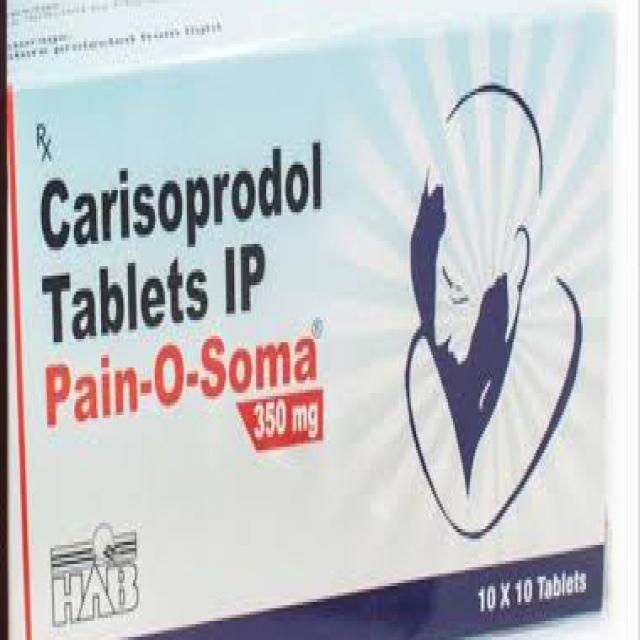drug-name: (40, 324, 318, 435)
